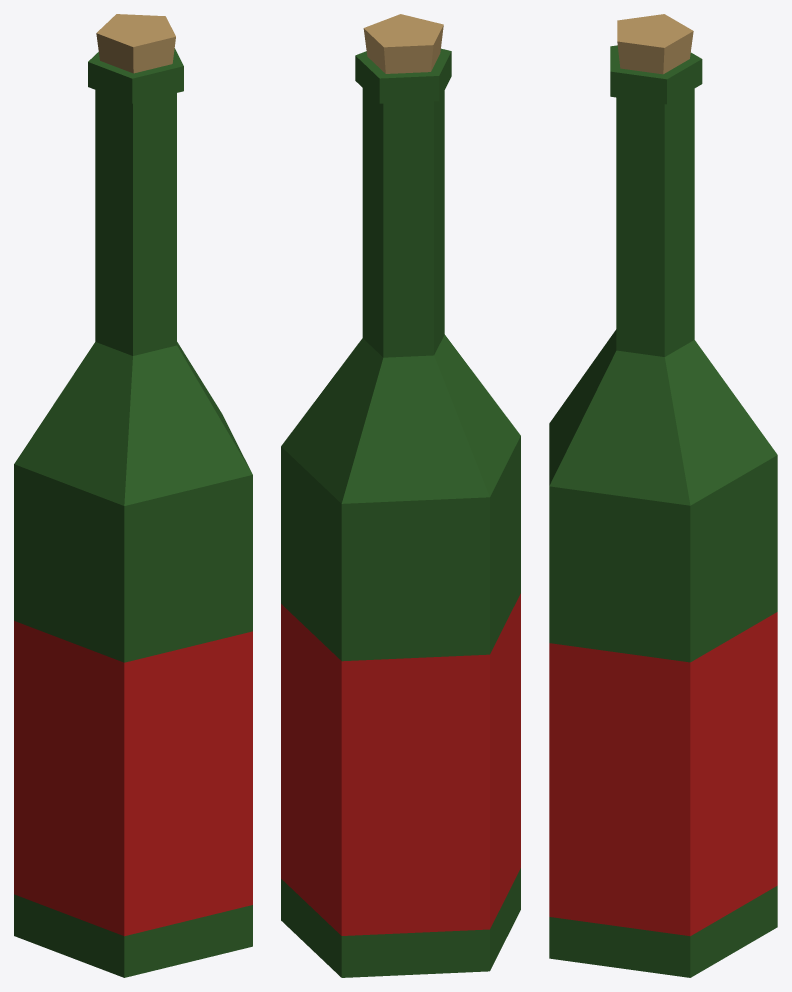
File: bottle.fbx
3 renders of one model, left to right at view 1: azimuth 30°, elevation 25°; view 2: azimuth 150°, elevation 25°; view 3: azimuth 270°, elevation 25°, orthographic.
Parts seen in each view (by area): view 1: Cylinder; view 2: Cylinder; view 3: Cylinder.
Boxes of the visible parts, x1,y1,x2,y2 form: Cylinder: [14, 14, 252, 977]; Cylinder: [281, 14, 520, 977]; Cylinder: [549, 14, 777, 977].
Size of the model in its own units: 114 by 470 by 109.
